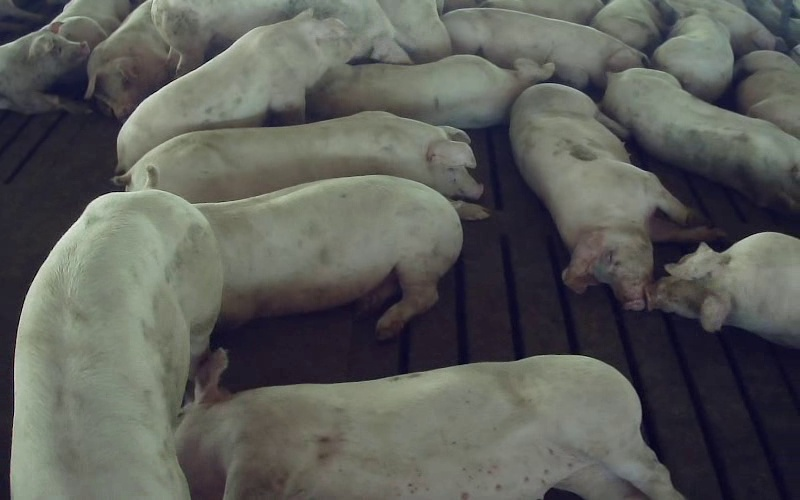pig: (175, 350, 680, 499), (11, 190, 222, 499), (510, 84, 722, 309), (198, 175, 461, 337), (117, 111, 487, 219), (117, 10, 365, 170), (602, 68, 799, 213), (152, 0, 409, 75), (307, 55, 554, 128), (650, 232, 799, 347), (442, 8, 646, 89), (0, 20, 88, 113), (652, 14, 733, 102), (734, 50, 799, 138), (591, 0, 676, 53)
